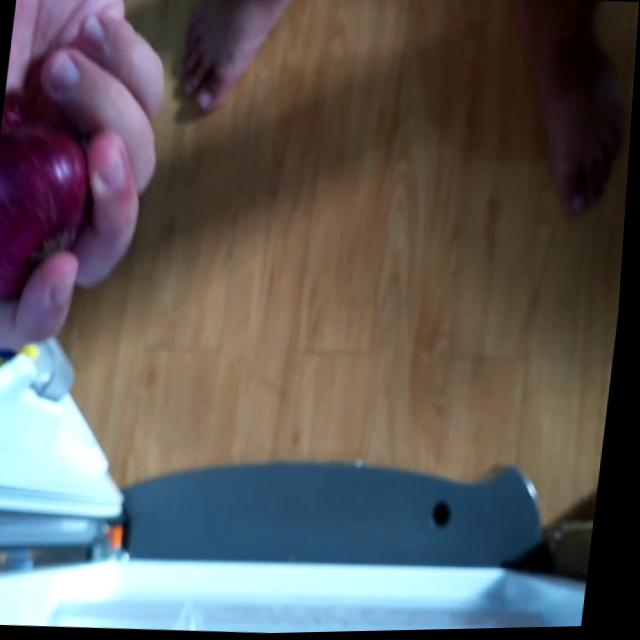onion: (0, 105, 101, 312)
